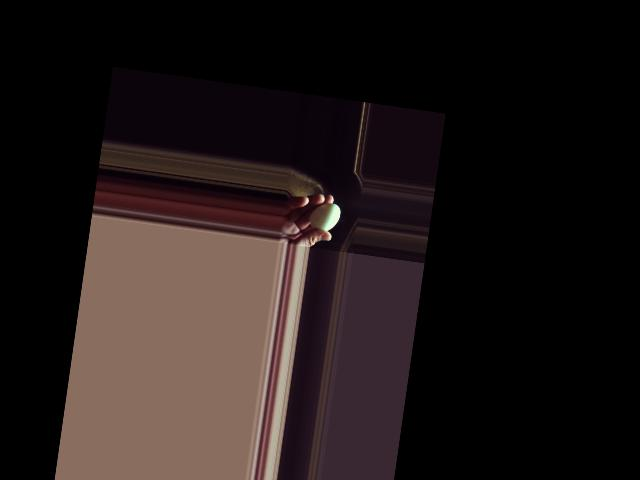egg: (308, 201, 341, 233)
